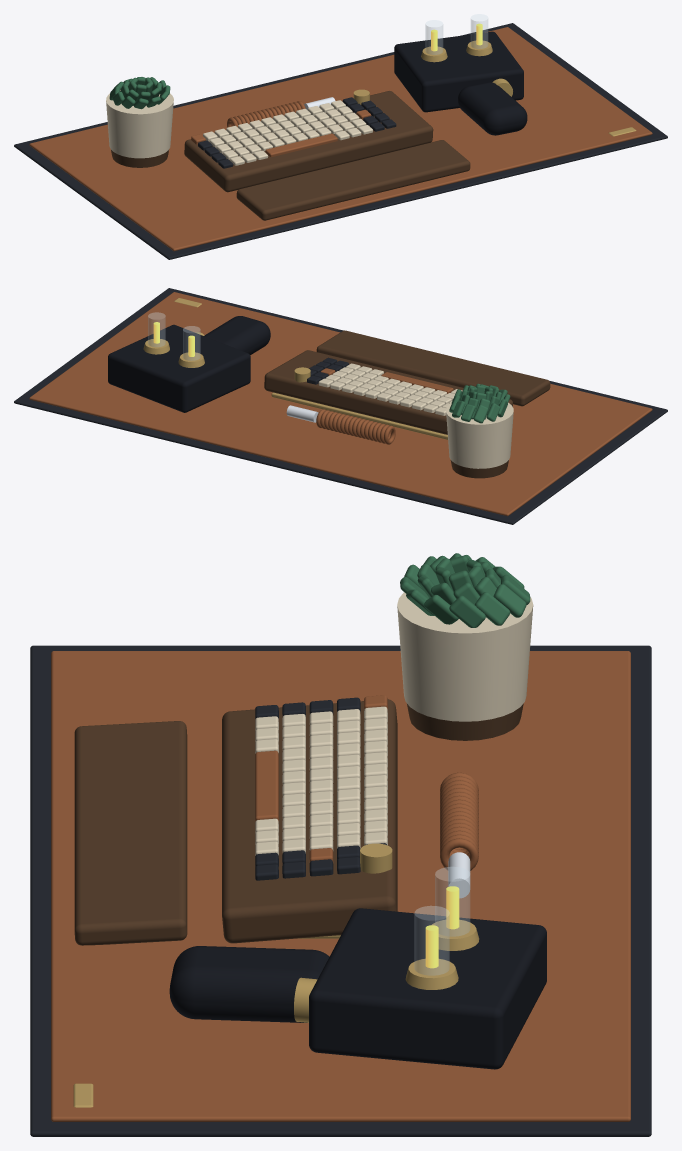
Rendered from atelier-decor-mechanical-heritage.glb.
3 renders of one model, top to bottom at view 1: azimuth 30°, elevation 25°; view 2: azimuth 150°, elevation 25°; view 3: azimuth 270°, elevation 25°, orthographic. The views are drawn at different scales.
Bounding box in the file's own units: 0.78 × 0.1226 × 0.4201.
